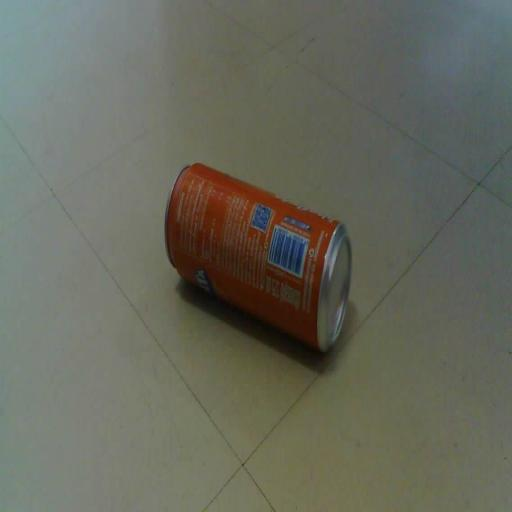canned: (158, 154, 364, 376)
